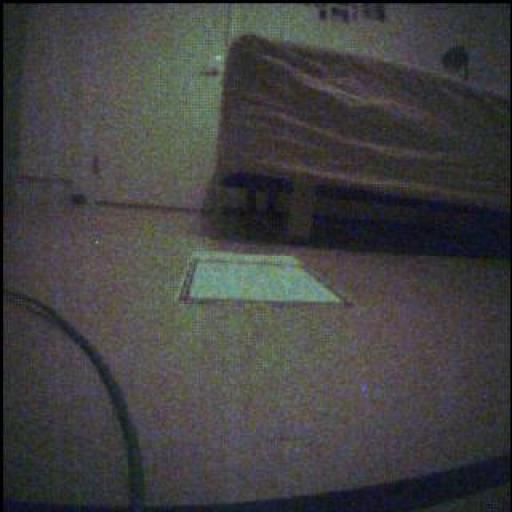pad: (180, 252, 345, 305)
